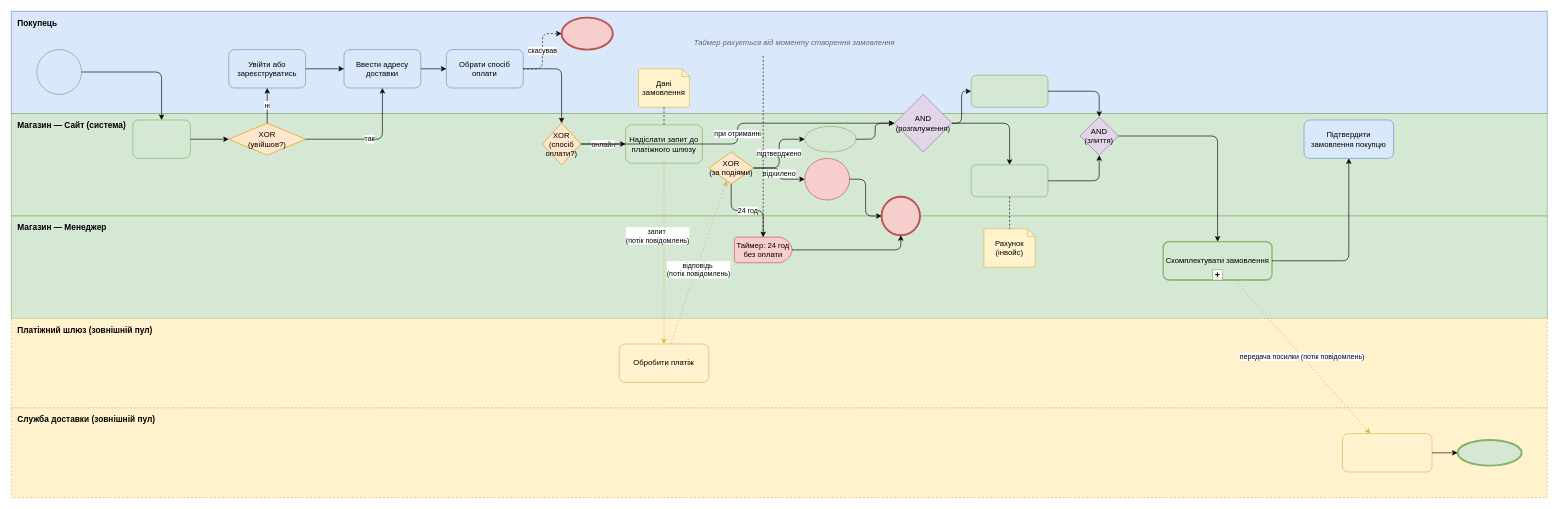
The diagram is 1558 pixels wide and 509 high, and some of its shapes have lost their labels. The centre of each missing label's shape, as x and y in pixels:
"Доставити й вручити товар" belongs at point (1387, 452).
"Доставлено" belongs at point (1489, 452).
"Зарезервувати товар" belongs at point (1009, 91).
"Натиснув «Оформити»" belongs at point (59, 71).
"Оплату відхилено" belongs at point (900, 216).
"Оплату відхилено (шлюзом)" belongs at point (827, 179).
"Оплату підтверджено" belongs at point (830, 139).
"Перевірити вхід" belongs at point (161, 138).
"Покупець відмовився" belongs at point (586, 33).
"Сформувати рахунок" belongs at point (1009, 180).
